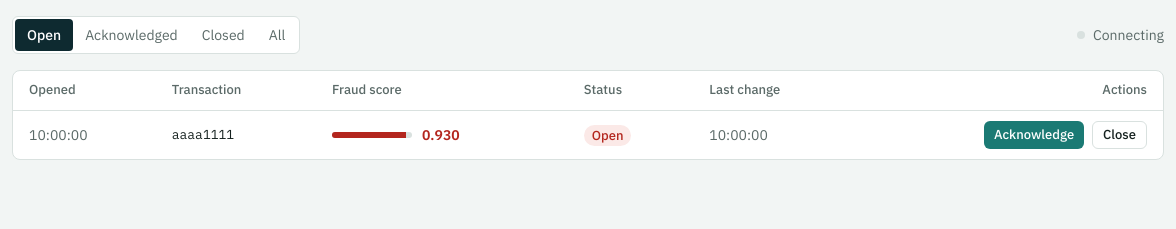
Scenario: AlertsBoard › shows the server reason when an update is refused
The width and height of the screenshot is (1176, 229).
Click the button with aria-label "Close alert on aaaa1111": point(1120, 135) [1092,121,1147,149]
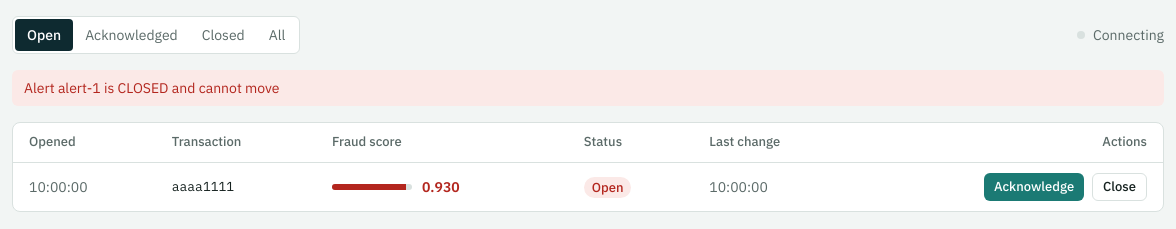
Expected: the text "aaaa1111" is shown, [156,162,316,211]
Expected: the message "Alert alert-1 is CLOSED and cannot move" is shown, [12,70,1164,106]
